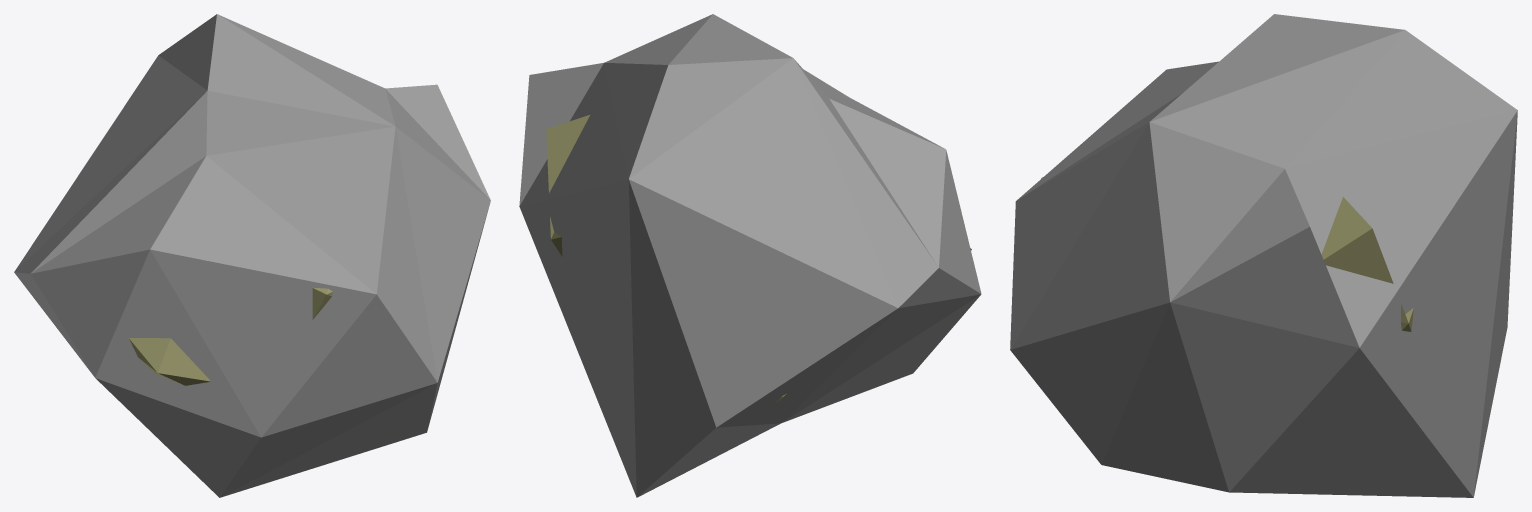
Rendered from Steine.fbx.
3 views of the same model, side by side, from view 1: azimuth 30°, elevation 25°; view 2: azimuth 150°, elevation 25°; view 3: azimuth 270°, elevation 25° (orthographic). The views are drawn at different scales.
Parts seen in each view (by area): view 1: Icosphere.006, stone.001; view 2: Icosphere.006, stone.001; view 3: Icosphere.006, stone.001.
Boxes of the visible parts, x1,y1,x2,y2 form: Icosphere.006: (14, 14, 490, 497); stone.001: (129, 287, 332, 385); Icosphere.006: (519, 14, 981, 497); stone.001: (546, 115, 971, 464); Icosphere.006: (1010, 14, 1517, 497); stone.001: (1041, 177, 1413, 331).
Size of the model in its own units: 95.52 by 91.42 by 90.03.
